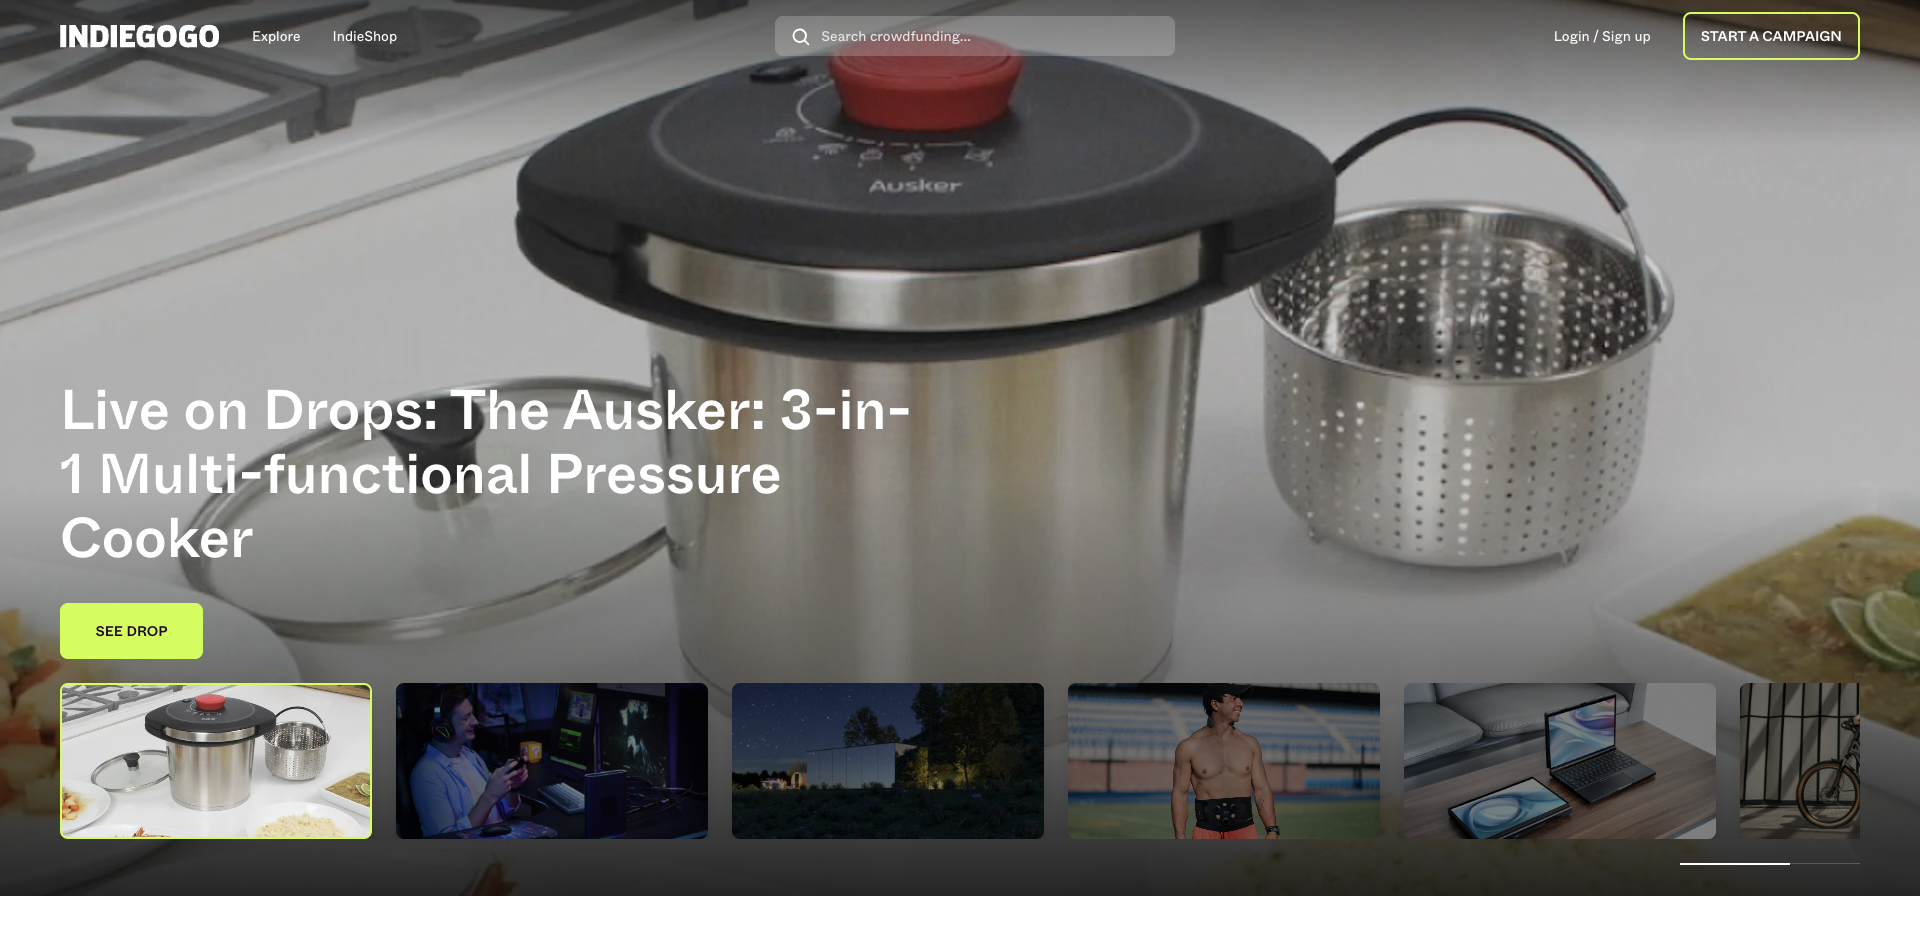button: (1682, 12, 1860, 60), (60, 603, 203, 659)
input: (819, 25, 1160, 47)
link: (60, 603, 203, 659), (60, 25, 220, 48), (1554, 26, 1651, 47), (1063, 0, 1146, 18), (333, 26, 397, 47), (252, 26, 300, 47)
